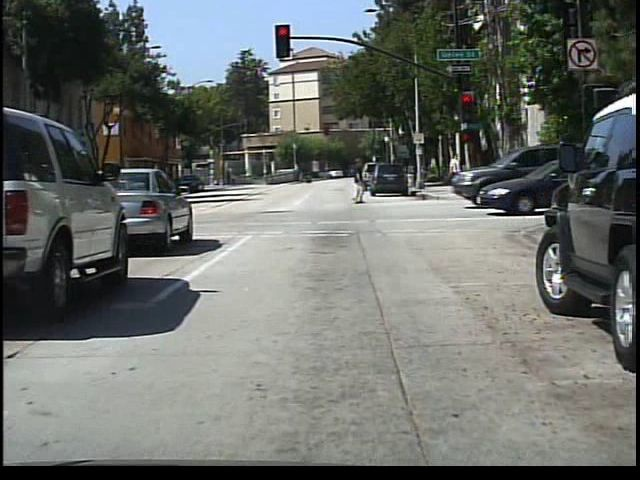person: (348, 157, 373, 207), (449, 150, 465, 184)
